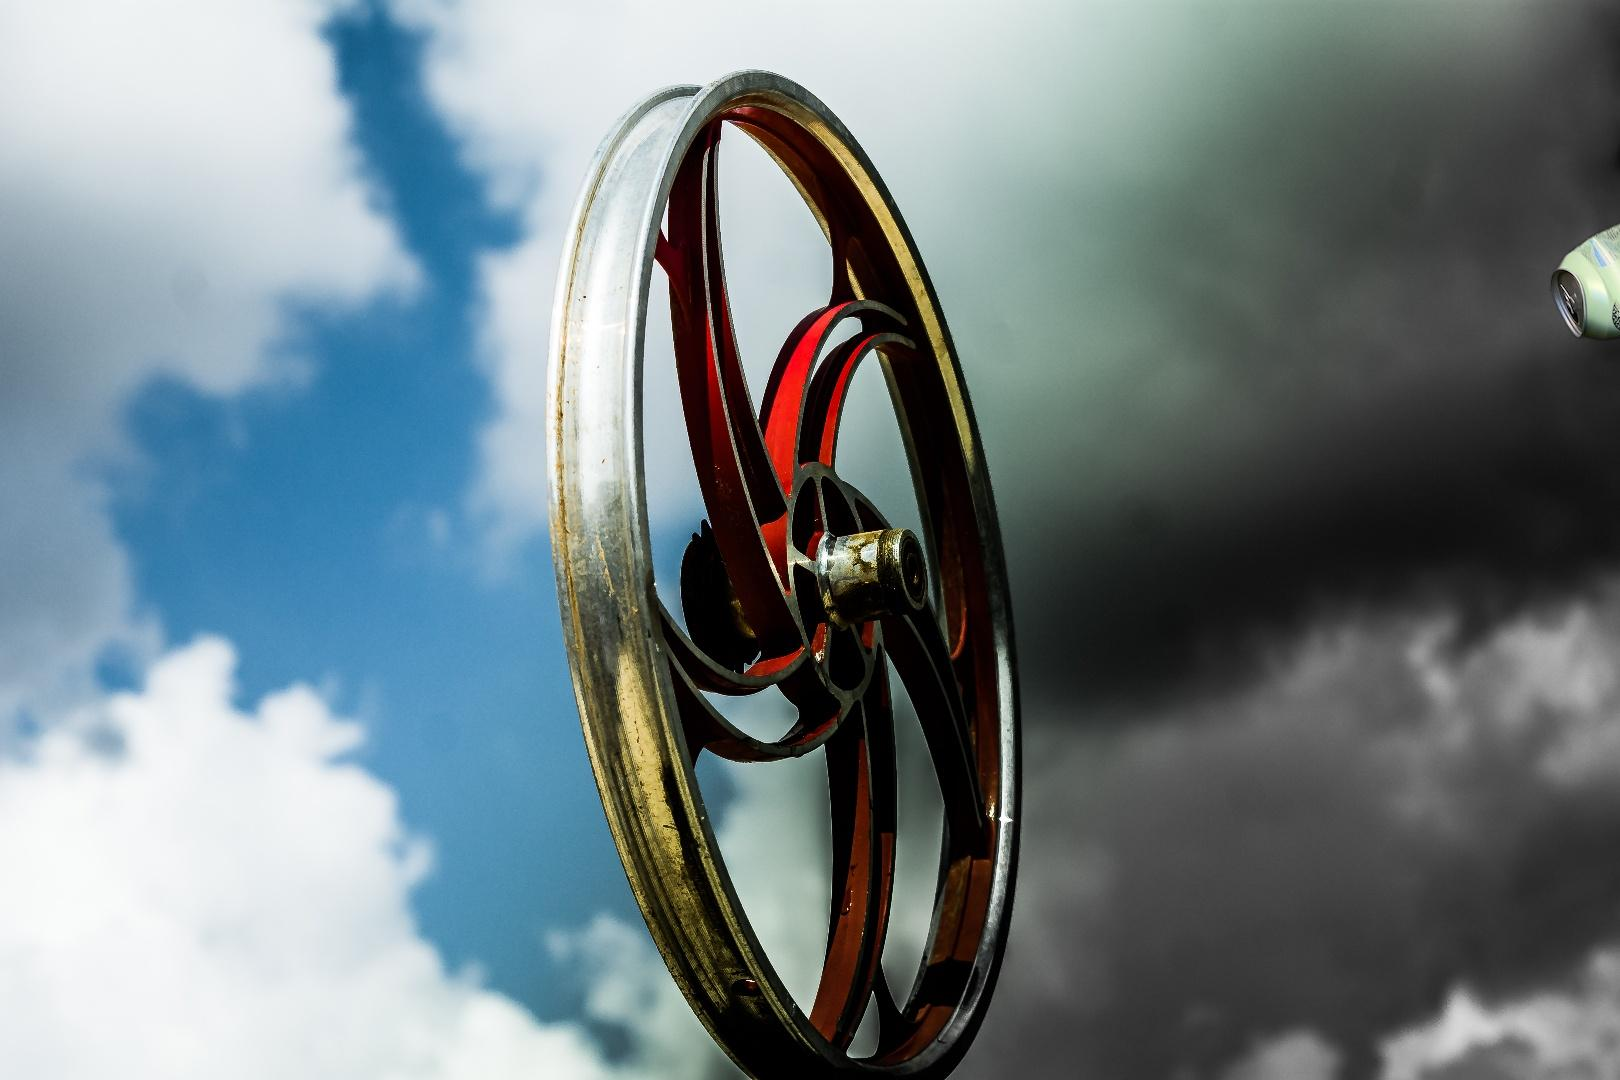metal-cans: (1546, 201, 1620, 346)
